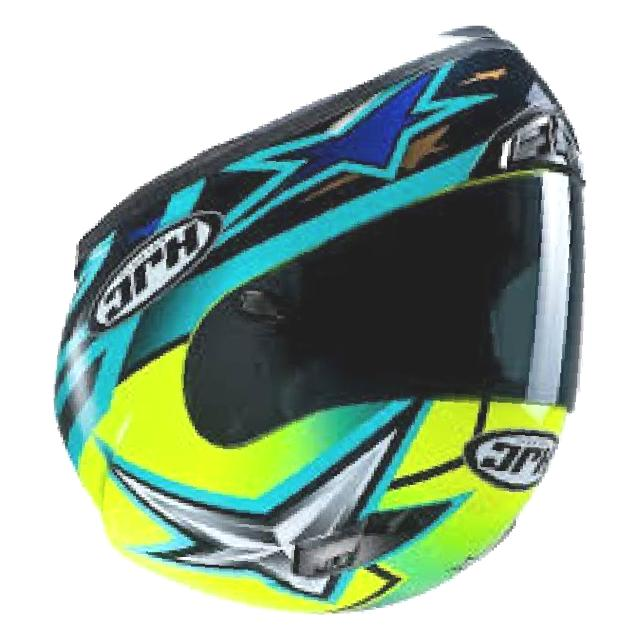helmet: (48, 18, 594, 625)
